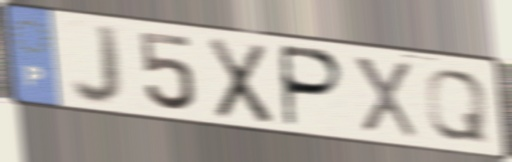5: (136, 30, 200, 114)
J: (69, 21, 125, 109)
P: (280, 42, 348, 130)
Q: (422, 67, 491, 145)
X: (205, 34, 275, 128), (349, 52, 422, 142)
